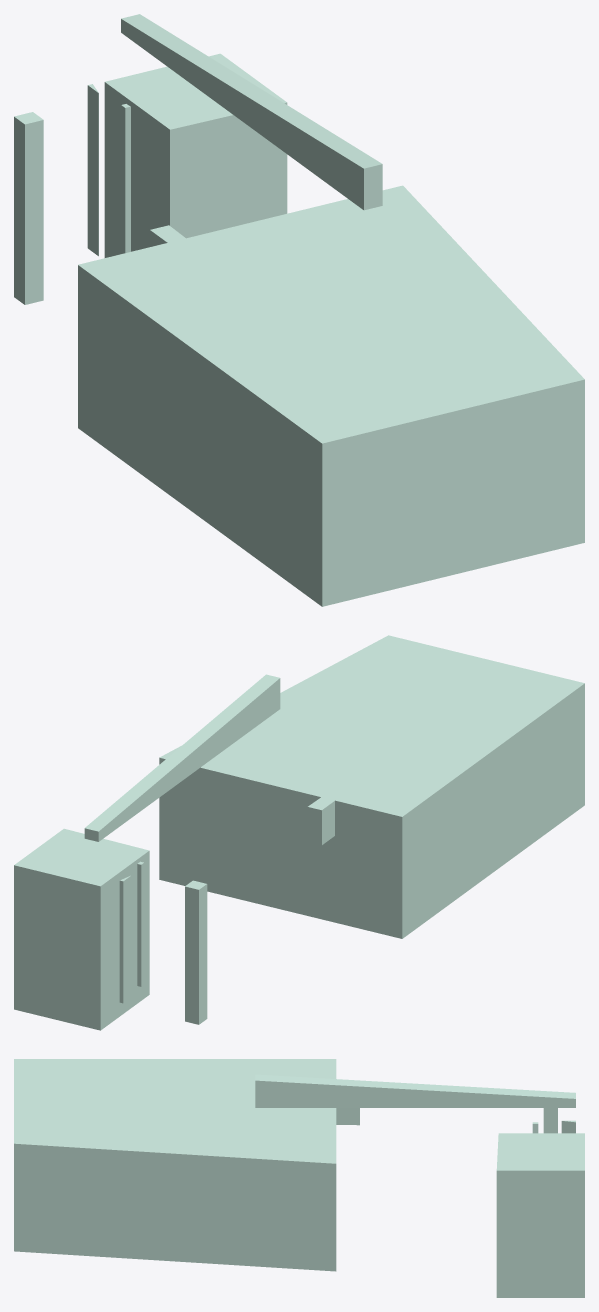
3 renders of one model, top to bottom at view 1: azimuth 30°, elevation 25°; view 2: azimuth 150°, elevation 25°; view 3: azimuth 270°, elevation 25°, orthographic. The views are drawn at different scales.
Visible parts, largest first — view 1: Renderer Node; view 2: Renderer Node; view 3: Renderer Node.
Boxes of the visible parts, box(x1,y1,x2,y2) form: Renderer Node: box(14, 14, 584, 606); Renderer Node: box(14, 635, 584, 1030); Renderer Node: box(14, 1059, 584, 1297).
Size of the model in its own units: 1.09 by 0.9052 by 2.48.
